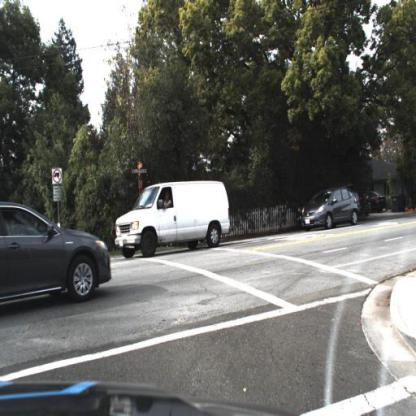car: (1, 199, 114, 309), (115, 167, 237, 262), (303, 185, 360, 234), (369, 190, 390, 217)
